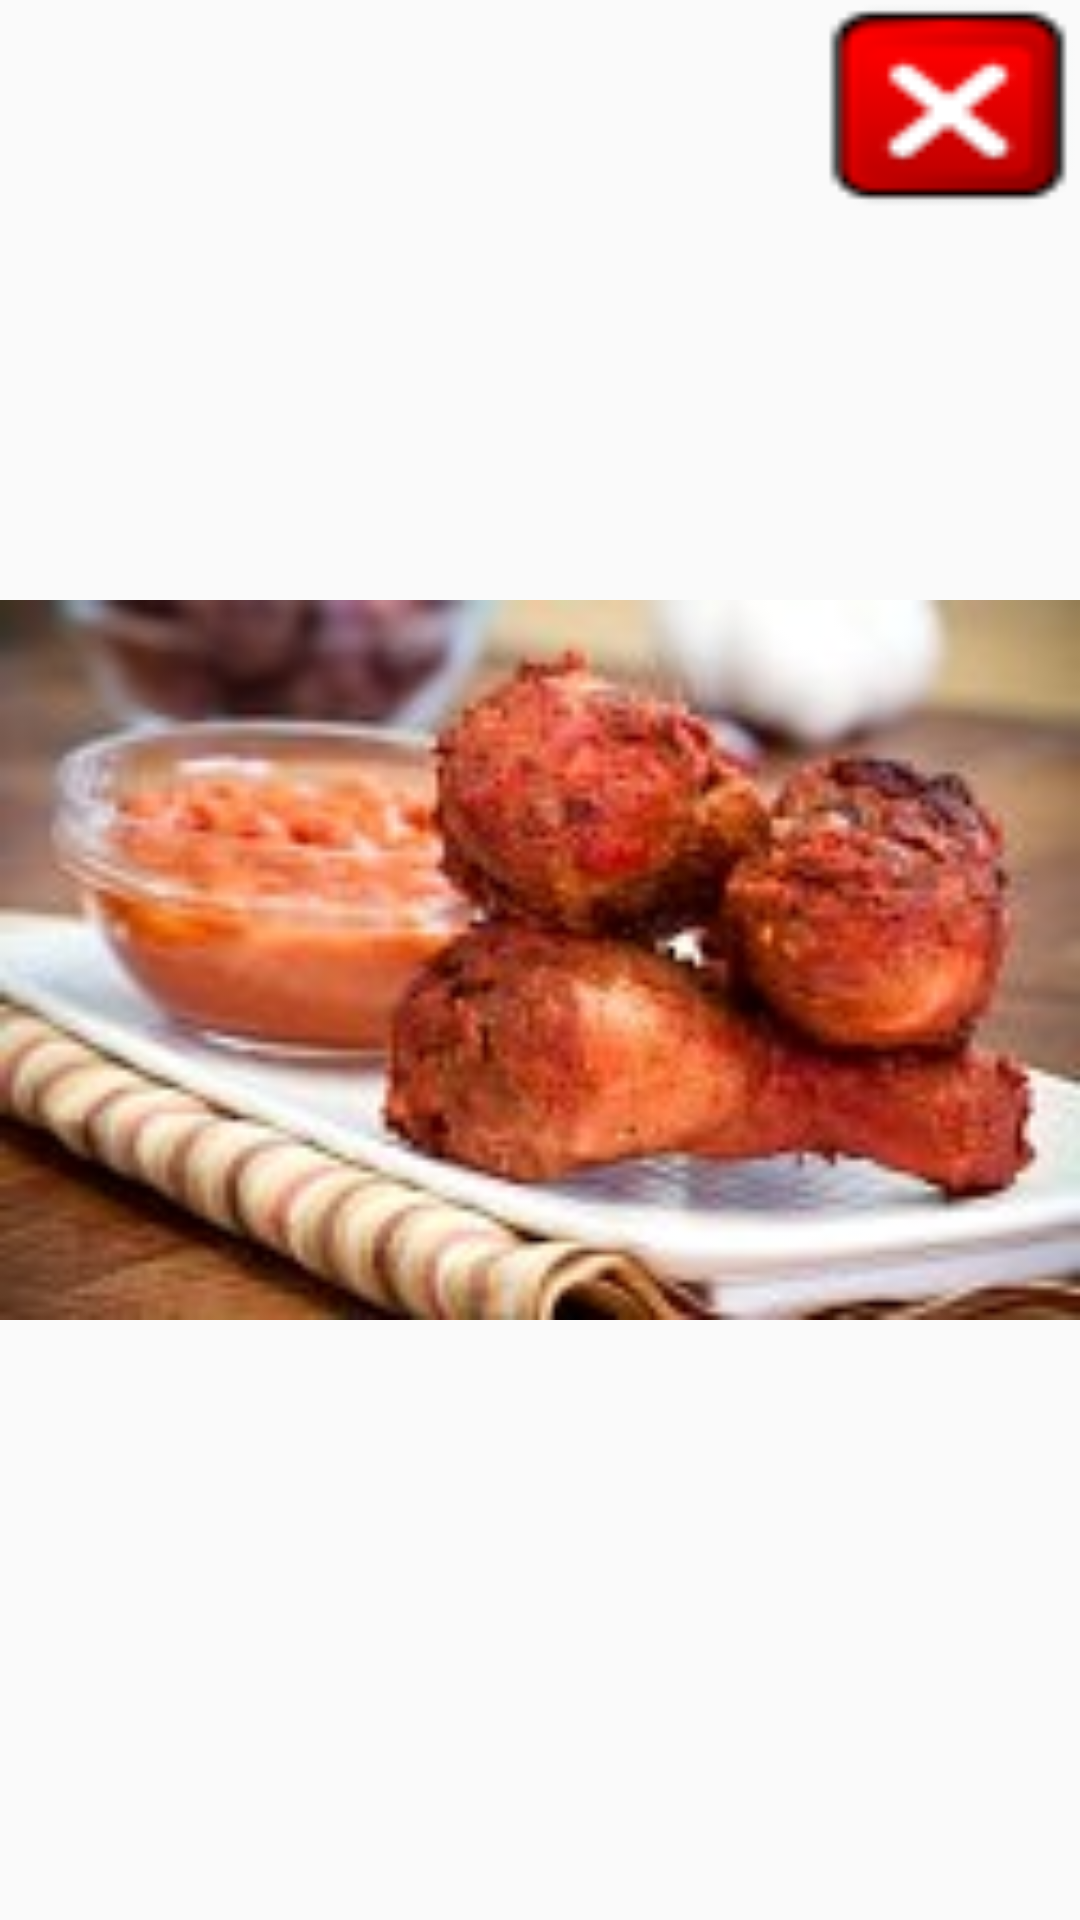

Screen size 1080px×1920px. Icon name, then its center in pixels as point (x, y):
delete: point (948, 105)
